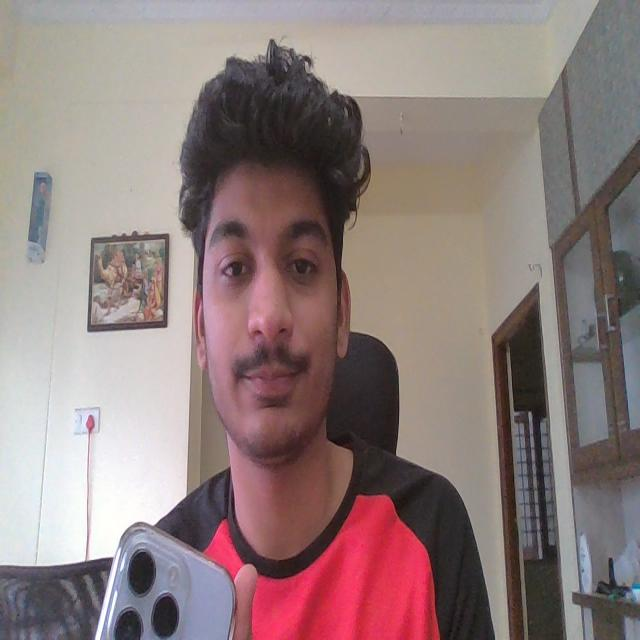phone: (97, 525, 241, 638)
